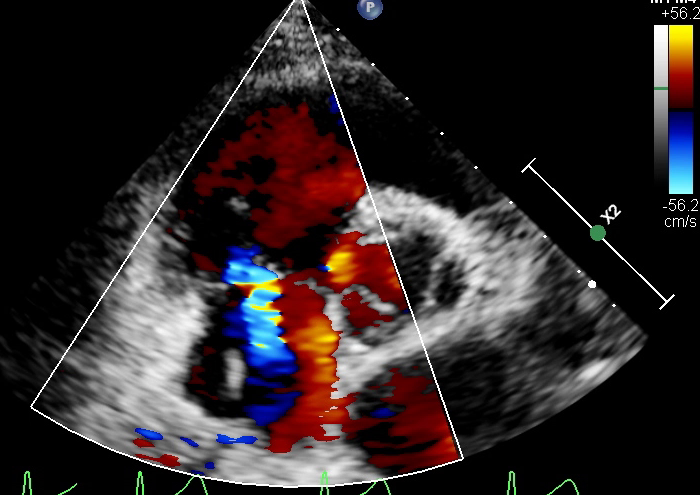TR: (203, 246, 326, 347)
